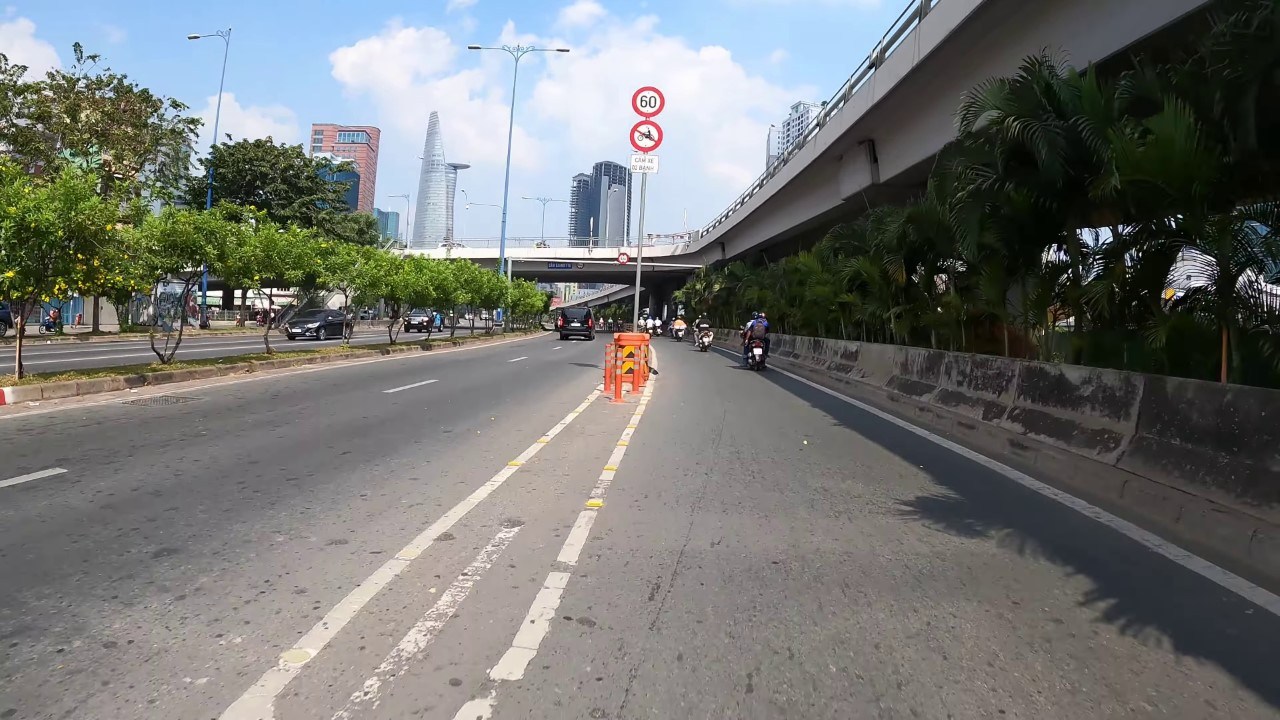gioi_han_60km: (629, 84, 667, 119)
